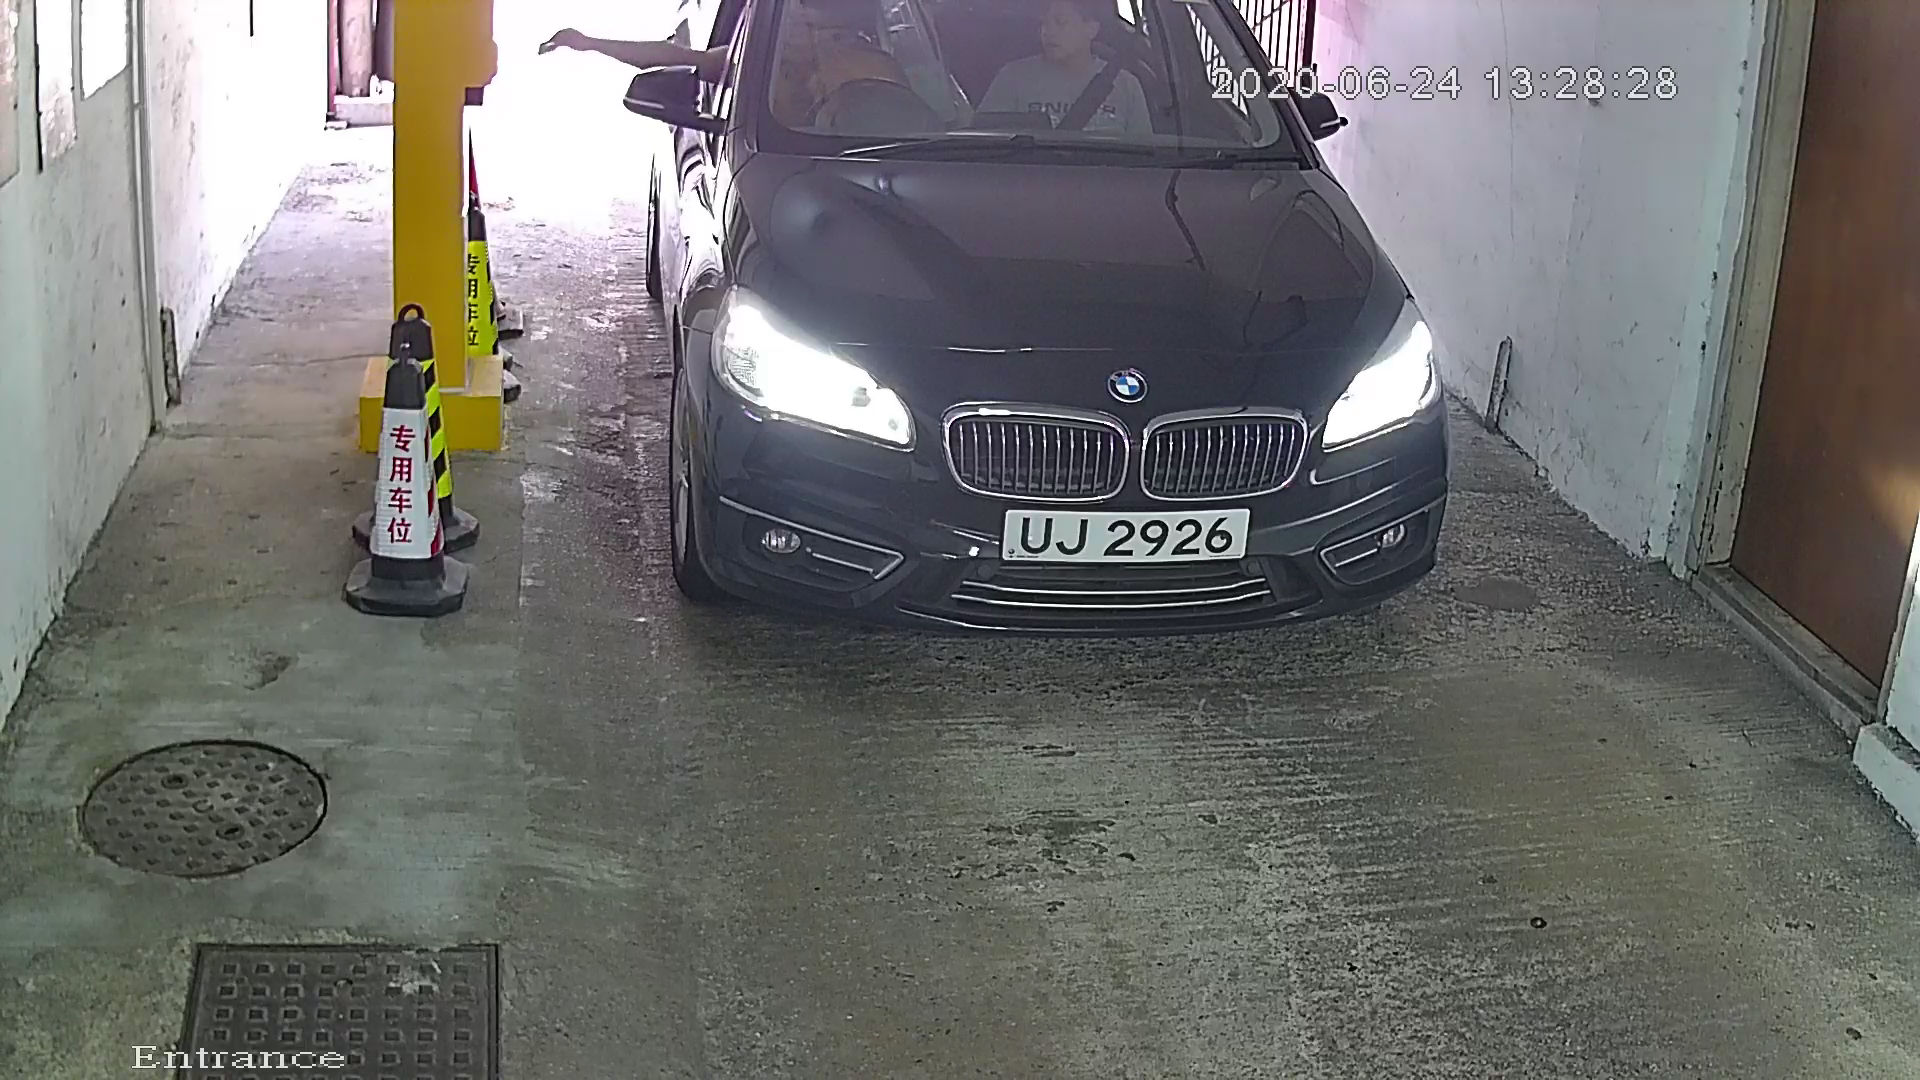Car: (558, 1, 1514, 698)
License Plate: (985, 494, 1257, 580)
